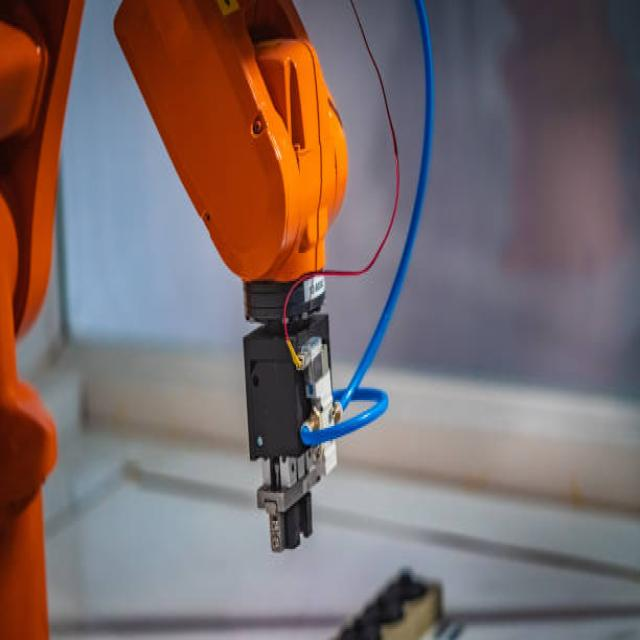Robotic-arm: (0, 0, 353, 640)
